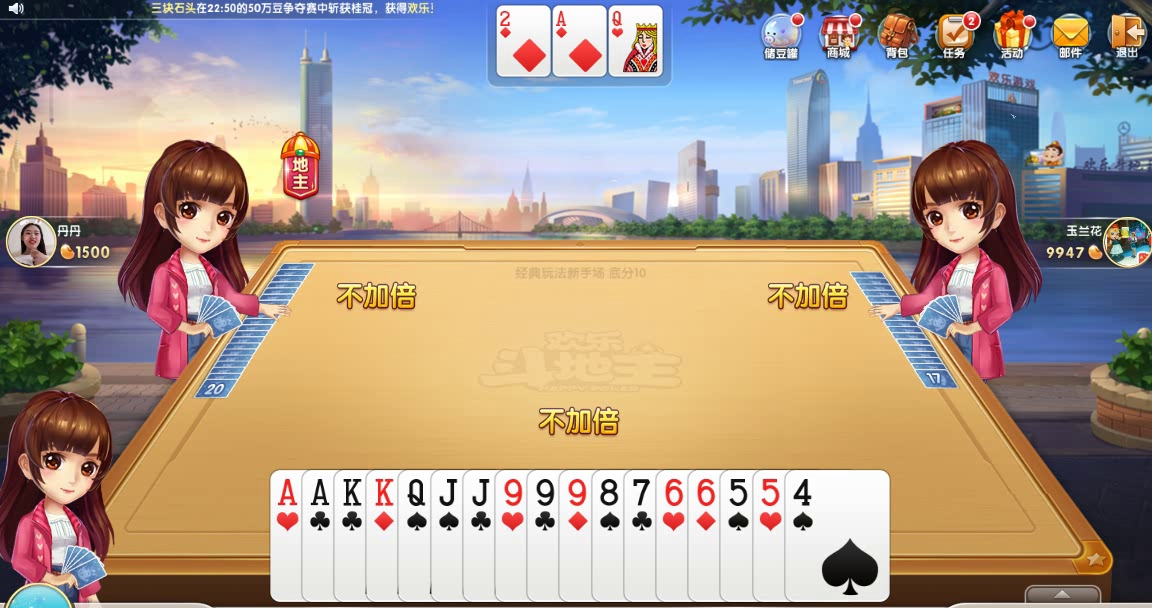11~2: (462, 468, 569, 601)
11~4: (429, 468, 536, 601)
12~3: (609, 4, 663, 78)
12~4: (397, 469, 504, 602)
13~1: (365, 468, 472, 601)
13~2: (333, 469, 440, 602)
14~1: (552, 4, 606, 78)
14~2: (301, 469, 408, 602)
14~3: (270, 469, 377, 602)
15~1: (496, 4, 550, 78)
4~4: (784, 469, 891, 602)
5~3: (752, 469, 859, 602)
5~4: (719, 469, 826, 602)
6~1: (687, 469, 794, 602)
6~3: (655, 469, 762, 602)
7~2: (623, 468, 730, 601)
8~4: (591, 468, 698, 601)
9~1: (558, 469, 665, 602)
9~2: (526, 468, 633, 601)
9~3: (494, 469, 601, 602)
